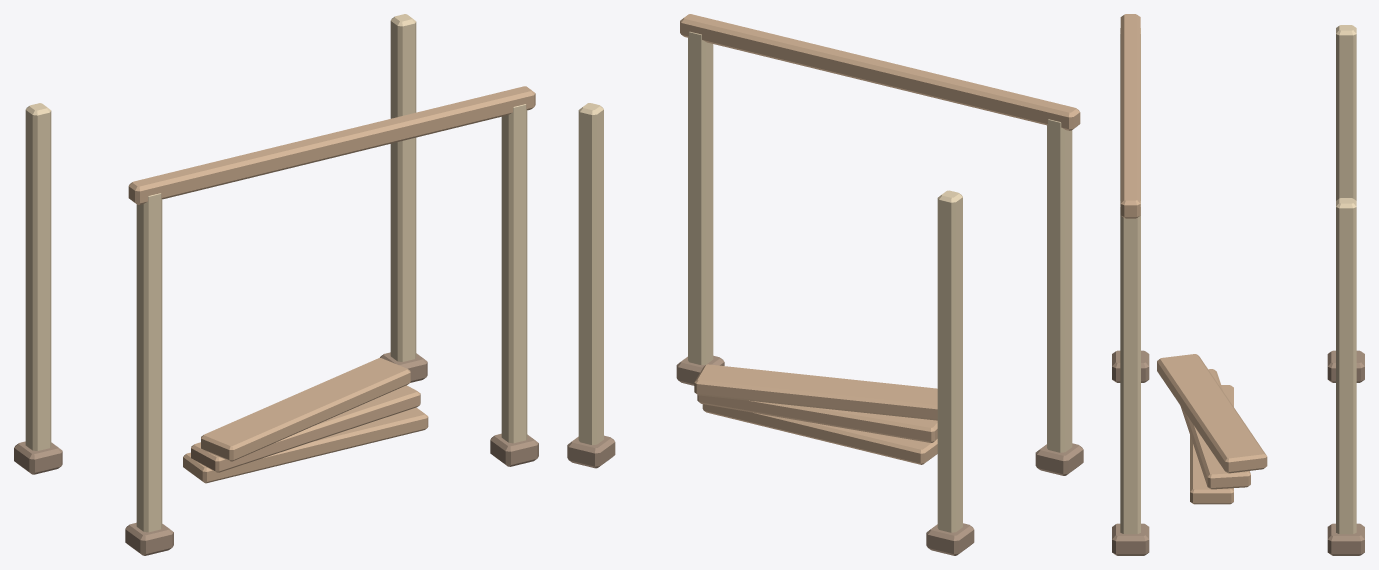
The model's file is crafted-post-building.glb.
3 views of the same model, side by side, from view 1: azimuth 30°, elevation 25°; view 2: azimuth 150°, elevation 25°; view 3: azimuth 270°, elevation 25° (orthographic). The views are drawn at different scales.
Parts seen in each view (by area): view 1: canopy-rail, post, post-1, post-3, post-2, counter-boards-2, counter-boards, counter-boards-1, post-foot, post-foot-1, post-foot-3; view 2: canopy-rail, post, post-2, post-1, post-3, counter-boards-2, counter-boards-1, counter-boards, post-foot-1, post-foot, post-foot-2, post-foot-3; view 3: post-2, post-3, counter-boards-2, canopy-rail, post, counter-boards-1, counter-boards, post-foot-2, post-foot-3, post-foot, post-foot-1, post-1.
Boxes of the visible parts, bbox=[...] form: canopy-rail: bbox=[128, 86, 535, 204]; post: bbox=[25, 103, 51, 450]; post-1: bbox=[136, 193, 162, 532]; post-3: bbox=[501, 104, 527, 443]; post-2: bbox=[390, 14, 416, 361]; counter-boards-2: bbox=[201, 358, 410, 461]; counter-boards: bbox=[183, 407, 428, 483]; counter-boards-1: bbox=[191, 385, 420, 472]; post-foot: bbox=[14, 441, 62, 474]; post-foot-1: bbox=[125, 522, 173, 555]; post-foot-3: bbox=[490, 433, 538, 466]; canopy-rail: bbox=[680, 14, 1080, 130]; post: bbox=[937, 190, 962, 532]; post-2: bbox=[578, 103, 603, 445]; post-1: bbox=[1047, 119, 1072, 452]; post-3: bbox=[688, 31, 713, 365]; counter-boards-2: bbox=[694, 364, 937, 420]; counter-boards-1: bbox=[697, 395, 937, 442]; counter-boards: bbox=[702, 404, 937, 464]; post-foot-1: bbox=[1035, 443, 1083, 475]; post-foot: bbox=[926, 523, 974, 555]; post-foot-2: bbox=[567, 435, 615, 468]; post-foot-3: bbox=[676, 355, 724, 385]; post-2: bbox=[1336, 198, 1356, 534]; post-3: bbox=[1120, 201, 1140, 534]; counter-boards-2: bbox=[1157, 354, 1267, 473]; canopy-rail: bbox=[1120, 14, 1140, 218]; post: bbox=[1336, 25, 1356, 200]; counter-boards-1: bbox=[1180, 369, 1250, 489]; counter-boards: bbox=[1190, 385, 1233, 504]; post-foot-2: bbox=[1327, 523, 1364, 555]; post-foot-3: bbox=[1112, 523, 1149, 555]; post-foot: bbox=[1327, 350, 1364, 382]; post-foot-1: bbox=[1112, 350, 1149, 382]; post-1: bbox=[1120, 28, 1140, 200].
Size of the model in its own units: 2.04 by 1.78 by 1.15.
